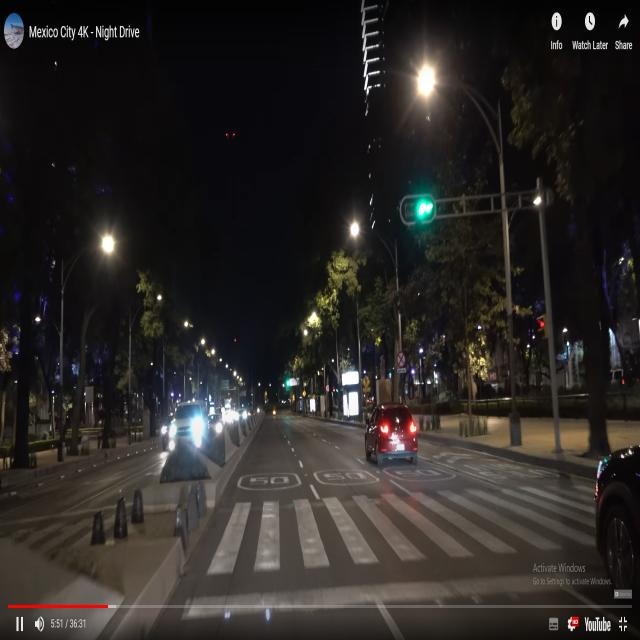headlights: (164, 413, 208, 448)
